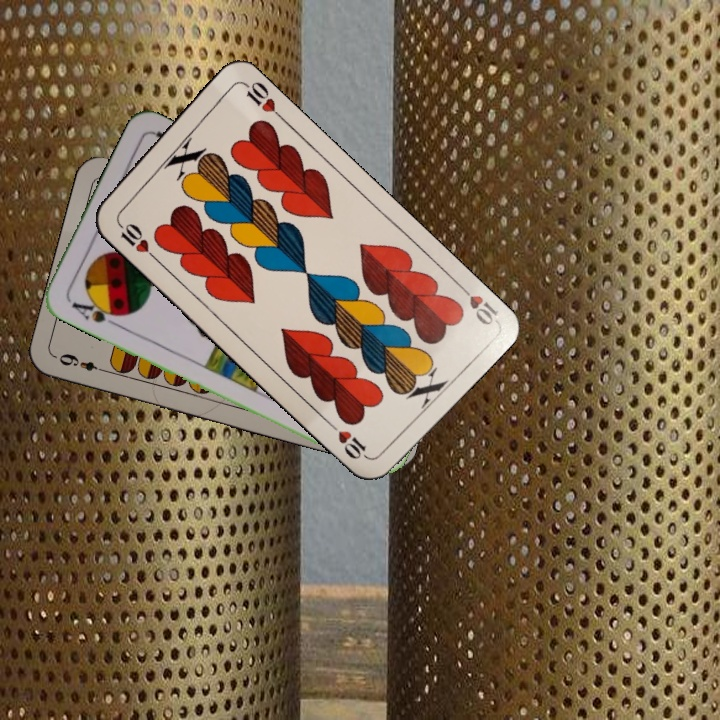E9: (55, 349, 110, 376)
H10: (453, 278, 501, 328), (112, 215, 159, 262)
SA: (67, 294, 125, 329)
